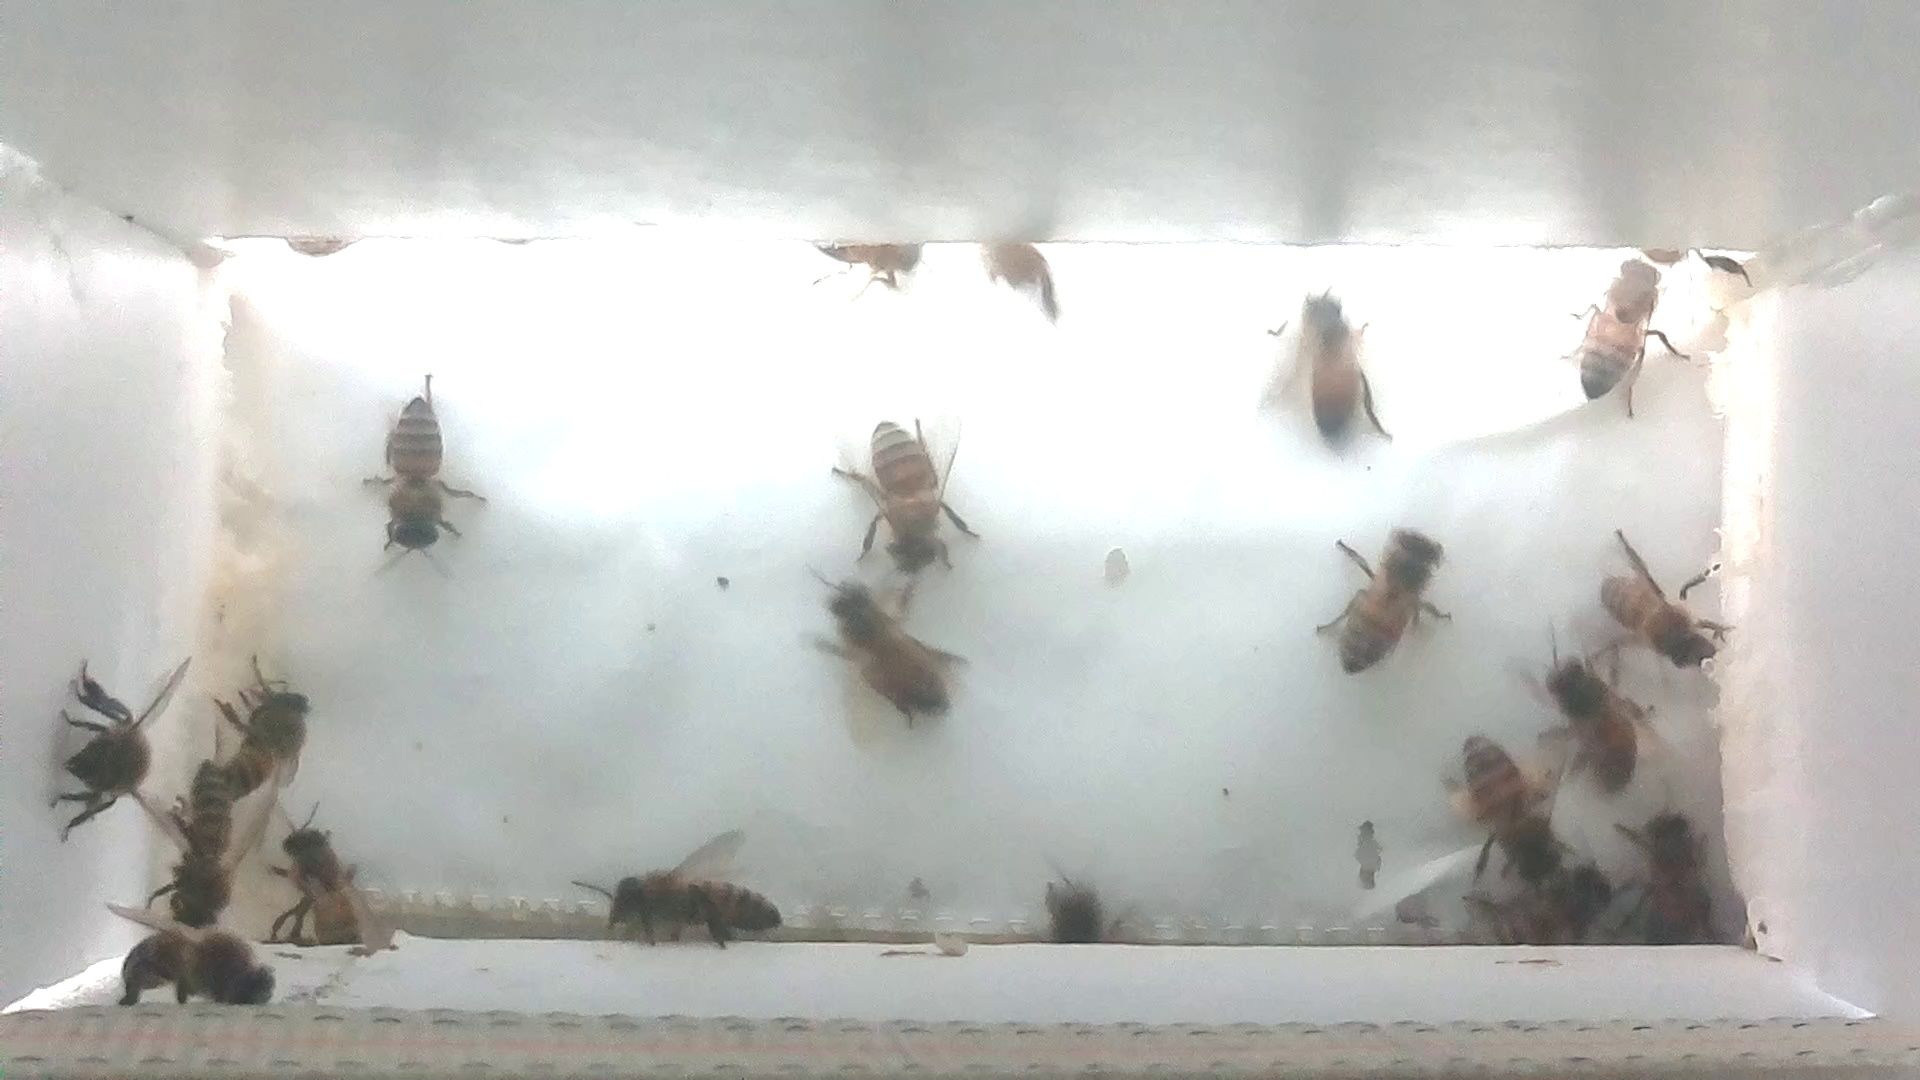bee: (335, 363, 489, 585), (1531, 229, 1704, 425), (1294, 491, 1464, 683), (558, 820, 810, 948), (49, 646, 204, 851), (794, 560, 976, 731), (824, 400, 978, 593), (1255, 261, 1408, 456), (1582, 513, 1741, 698), (1510, 624, 1664, 799), (100, 895, 286, 1025), (1607, 781, 1741, 953), (1425, 725, 1575, 880), (148, 738, 260, 938), (203, 638, 320, 815), (251, 790, 378, 951), (804, 220, 944, 309), (975, 231, 1073, 342)
